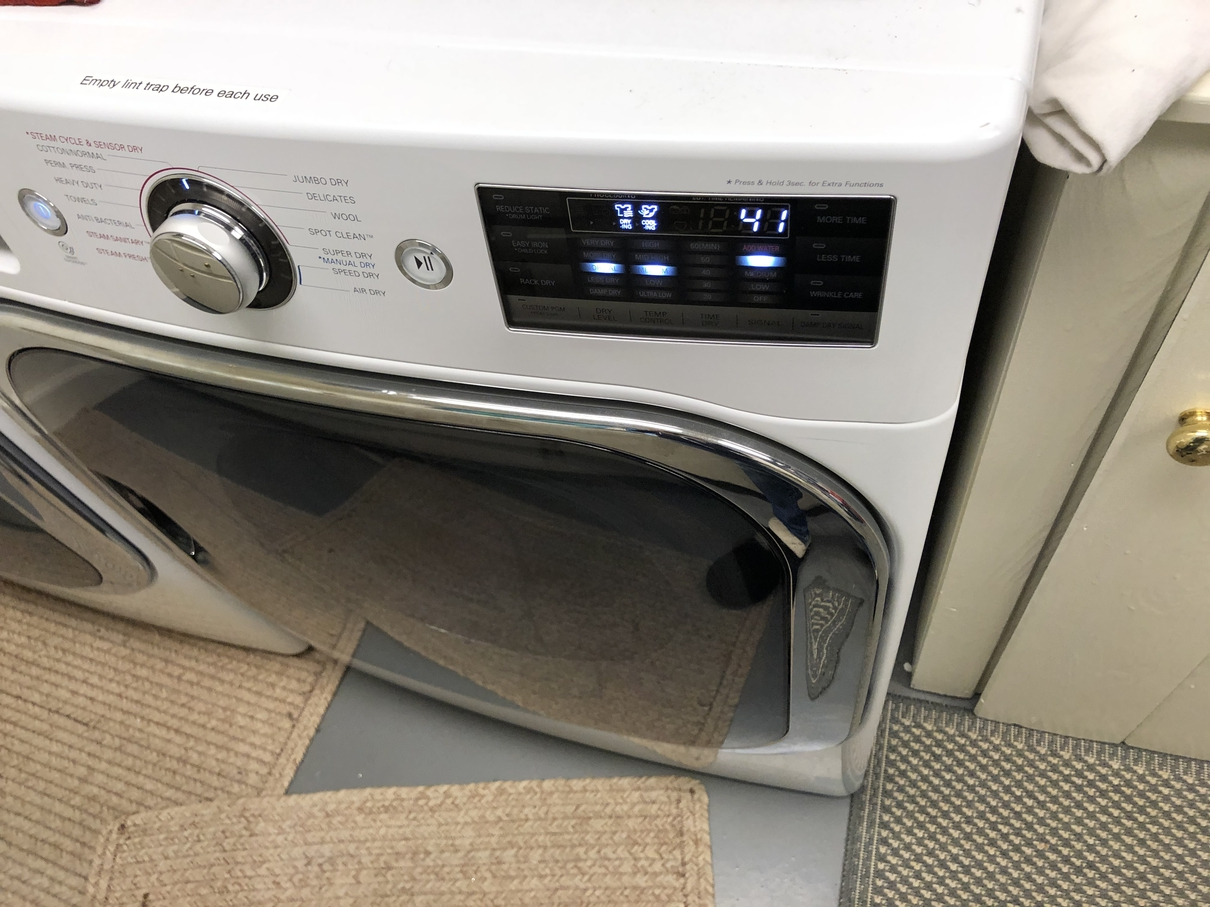status: (555, 189, 799, 248)
